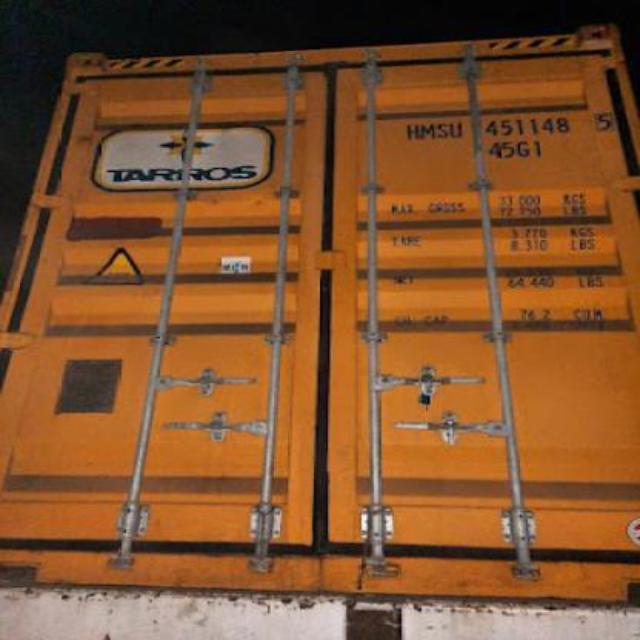1: (514, 117, 526, 137), (528, 115, 540, 135)
4: (484, 120, 498, 138), (542, 117, 556, 135)
5: (498, 116, 516, 140), (596, 114, 610, 130)
8: (556, 115, 572, 135)
H: (406, 123, 419, 141)
M: (422, 122, 436, 140)
S: (436, 122, 449, 140)
U: (450, 122, 462, 140)
